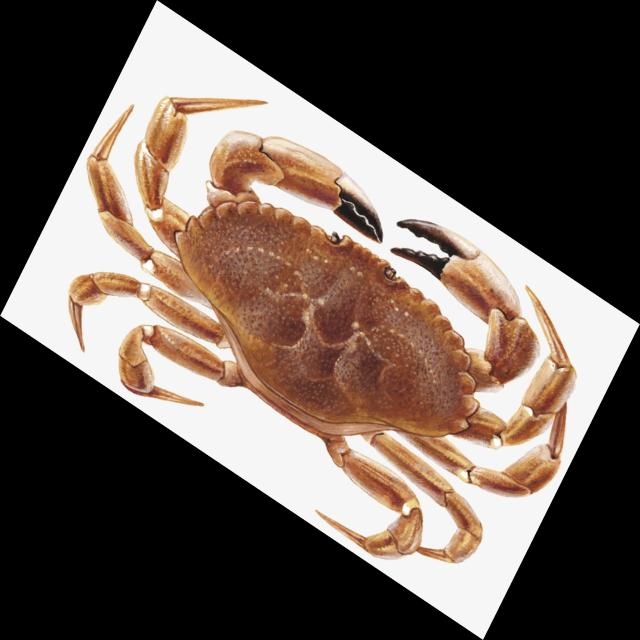Native Jonah crab: (69, 97, 576, 562)
